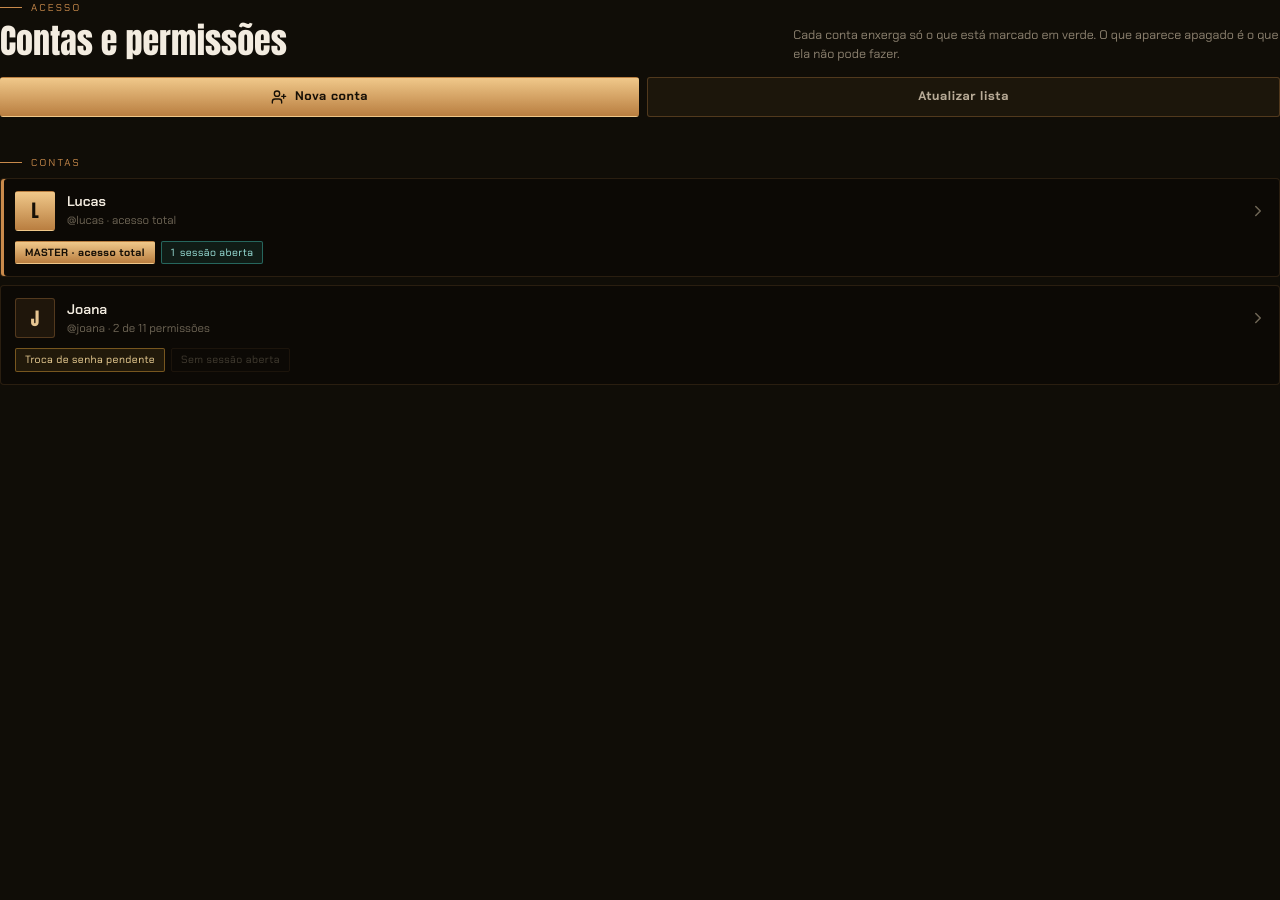
Usuários no celular › permissão vira rascunho: tocar não grava, sair pergunta, salvar manda só o que mudou
Click the button with aria-label "Abrir a conta de Joana" at (87, 309), box [67,300,1237,318]
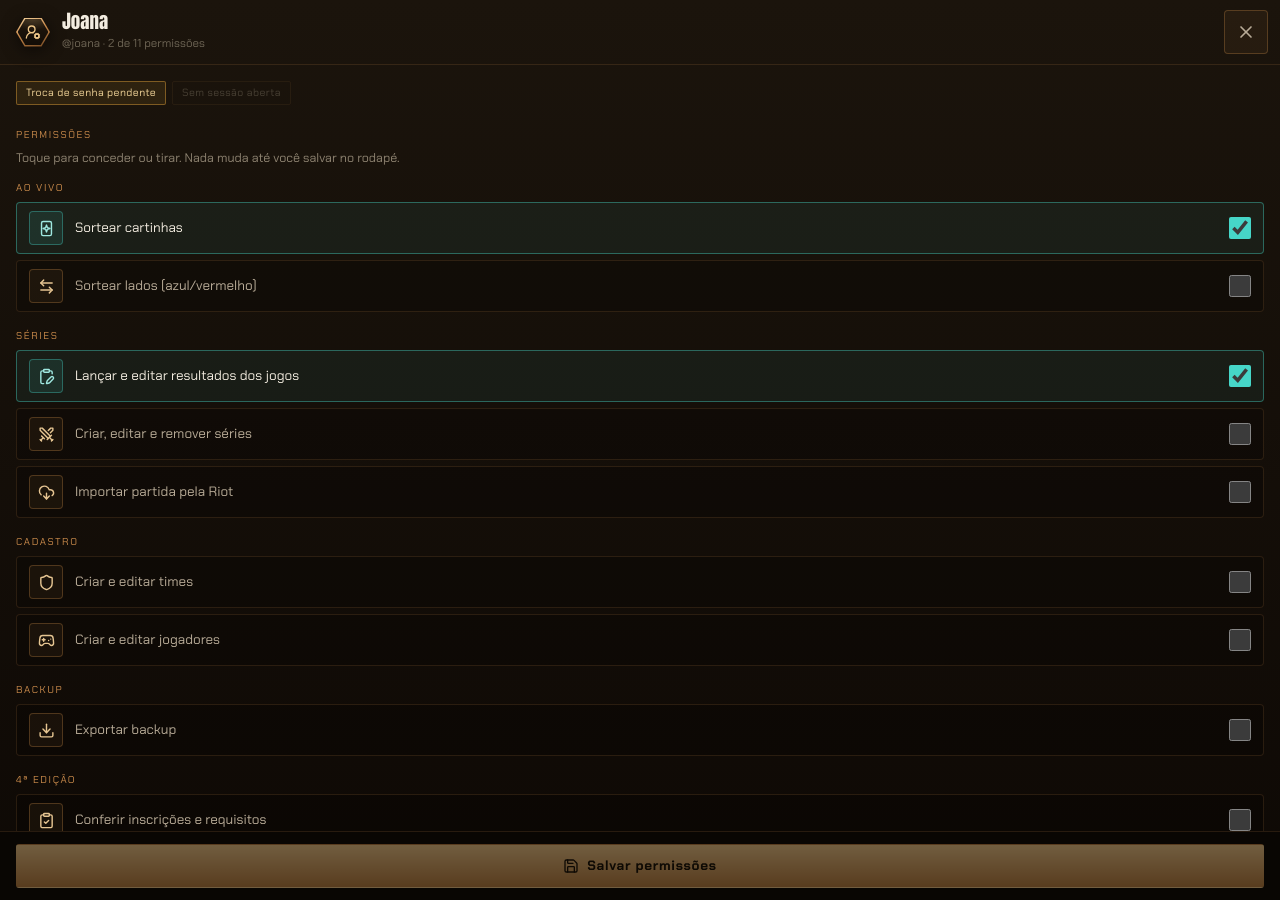
Click the checkbox labelled "Criar e editar times" at (1240, 582), box [1229,571,1251,593]
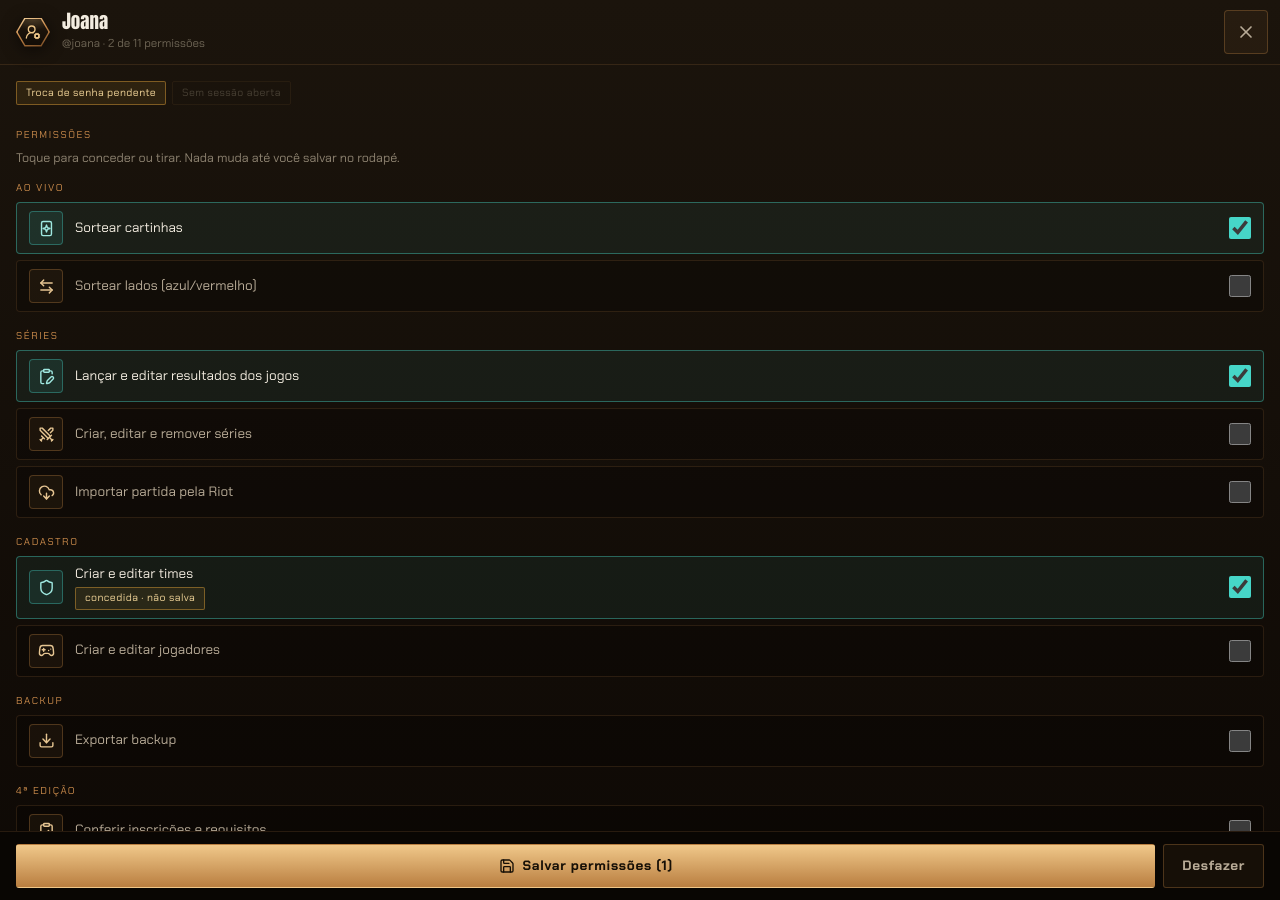
Expected: the checkbox labelled "Criar e editar times concedida · não salva" is checked, [1229,576,1251,598]
Press Escape in the dialog "Joana"
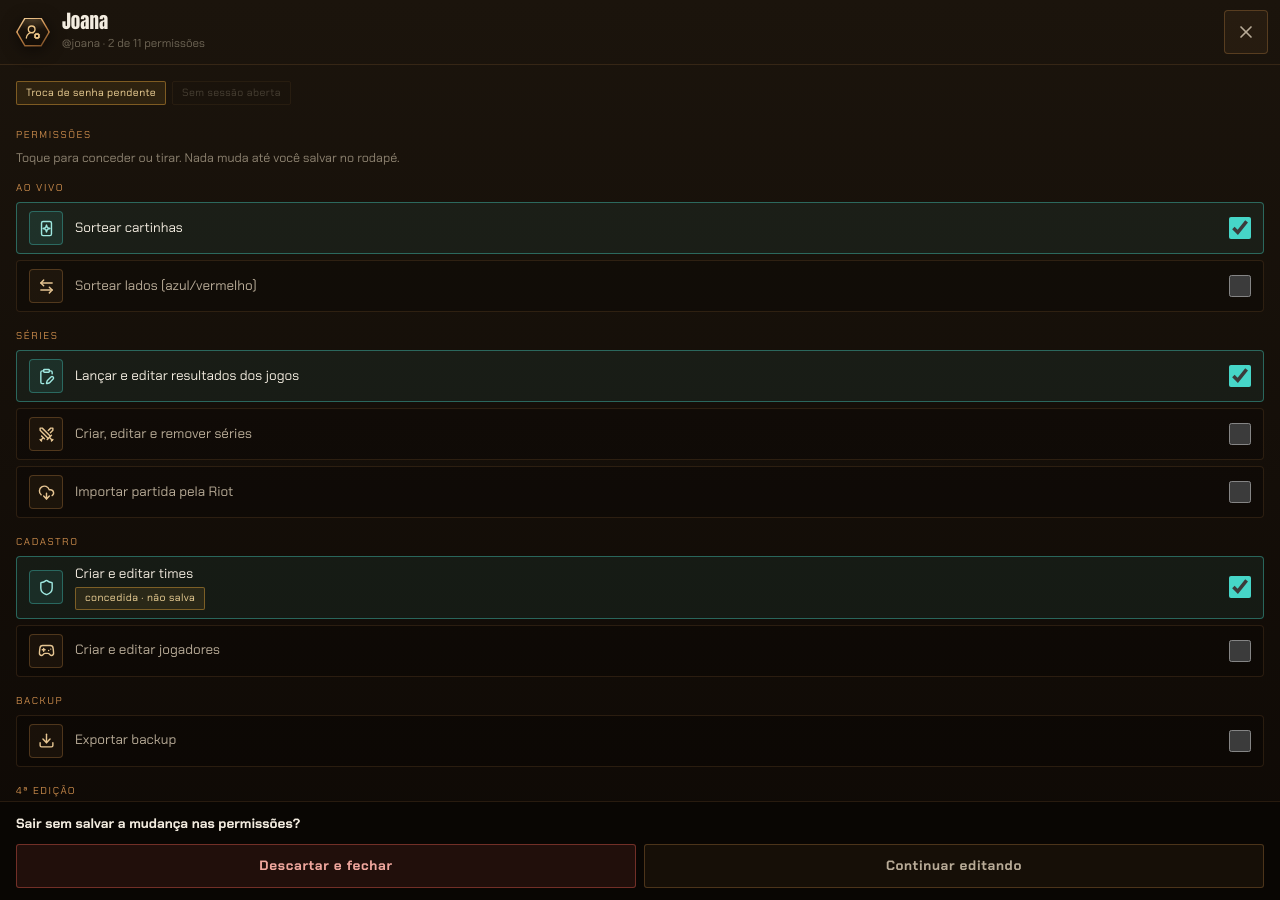
Expected: the message shows "Sair sem salvar a mudança", [16,814,1264,888]
Click the button "Continuar editando" at (954, 866), box [644,844,1264,888]
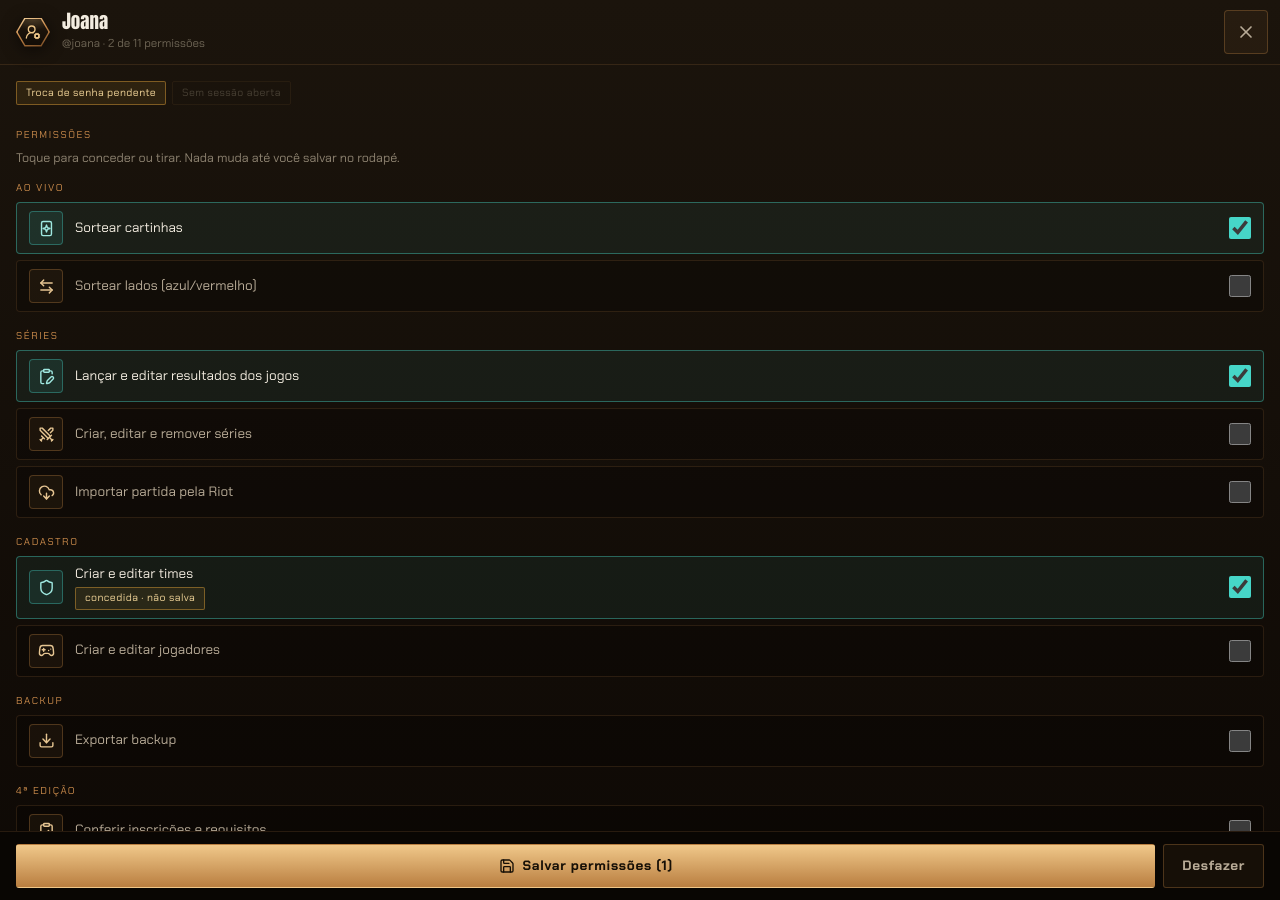
Click the button "Salvar permissões (1)" at (586, 866), box [16,844,1155,888]
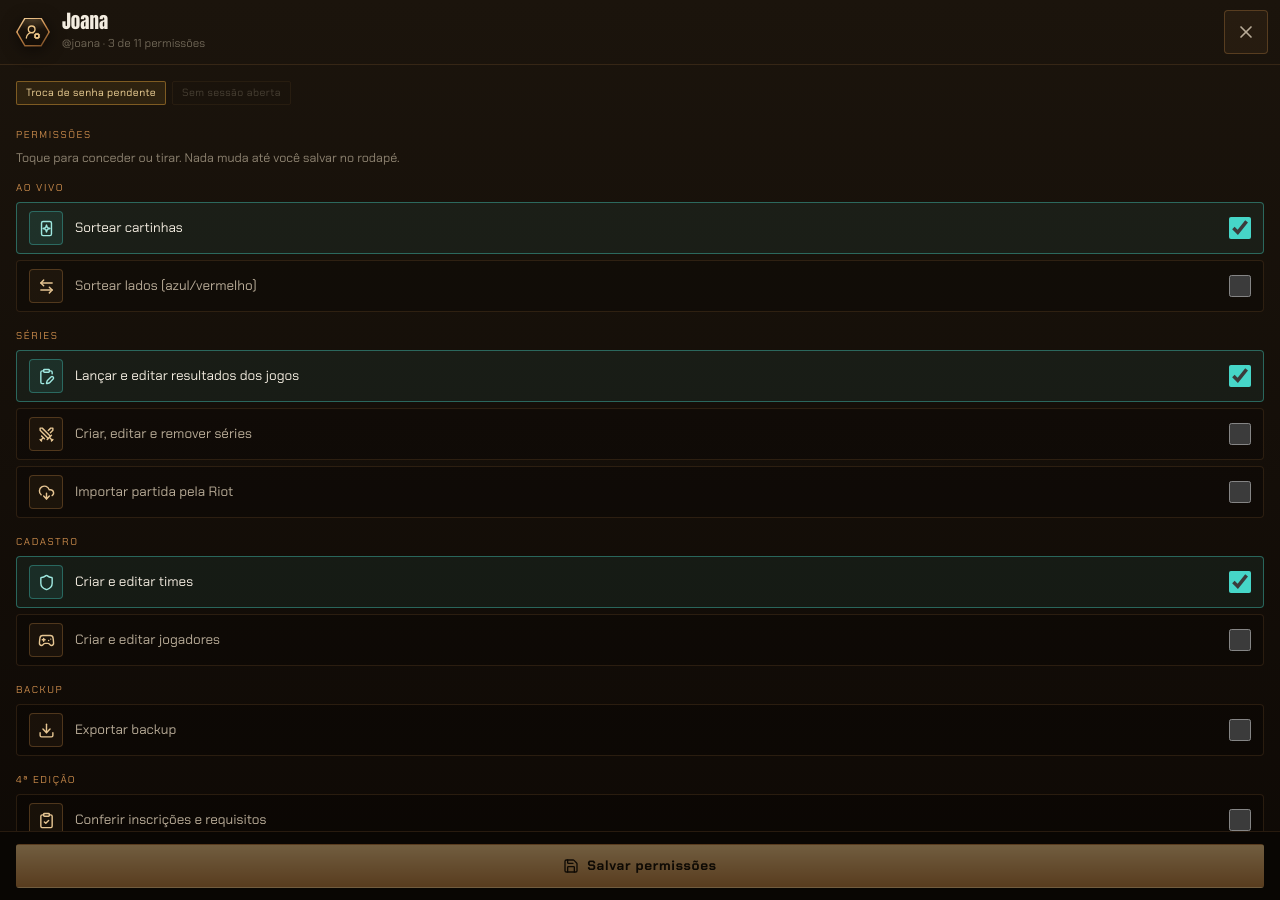
Expected: the button "Salvar permissões" is disabled, [16,844,1264,888]
Note: Sem rascunho, fechar fecha direto.
Press Escape in the dialog "Joana"
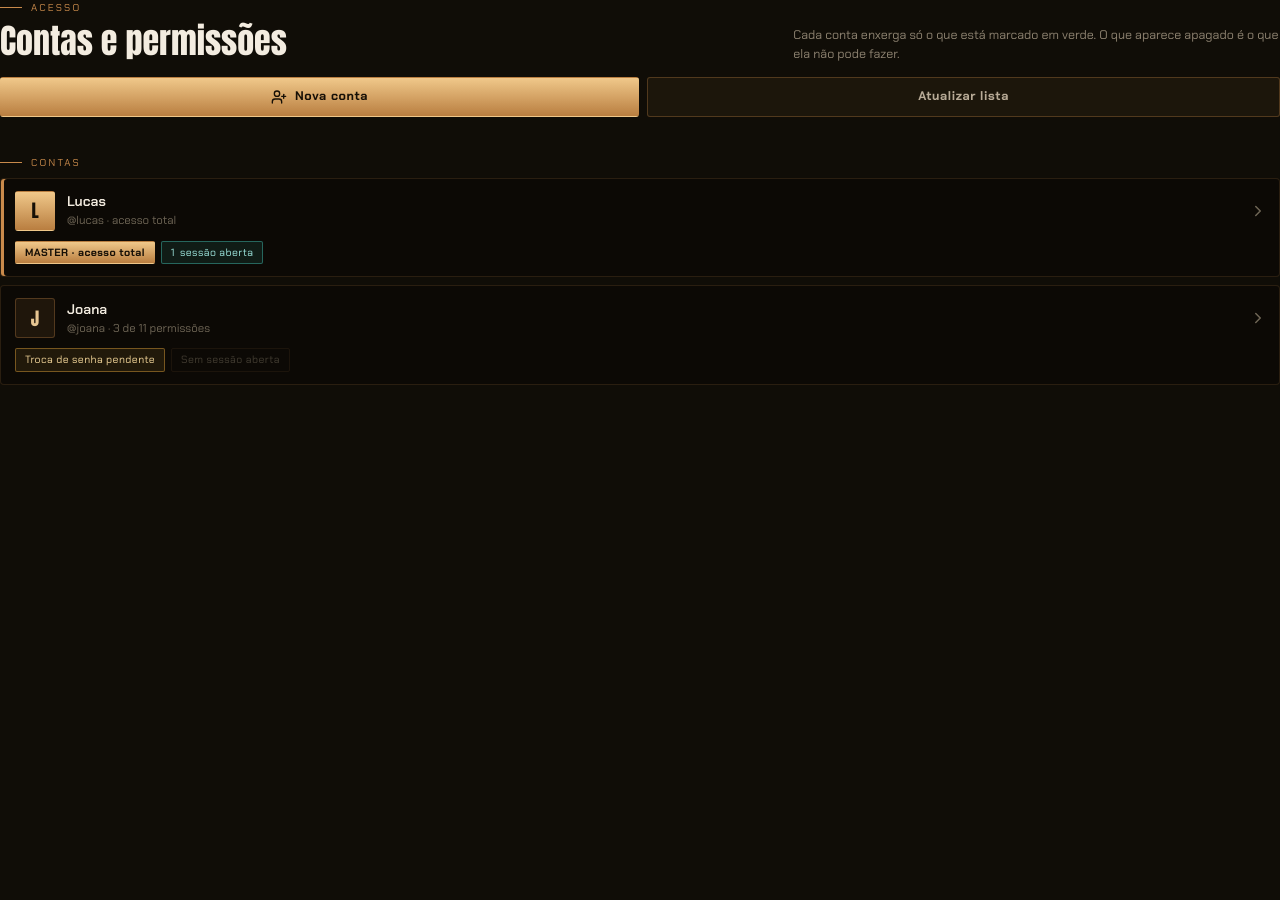
Expected: the dialog is gone
